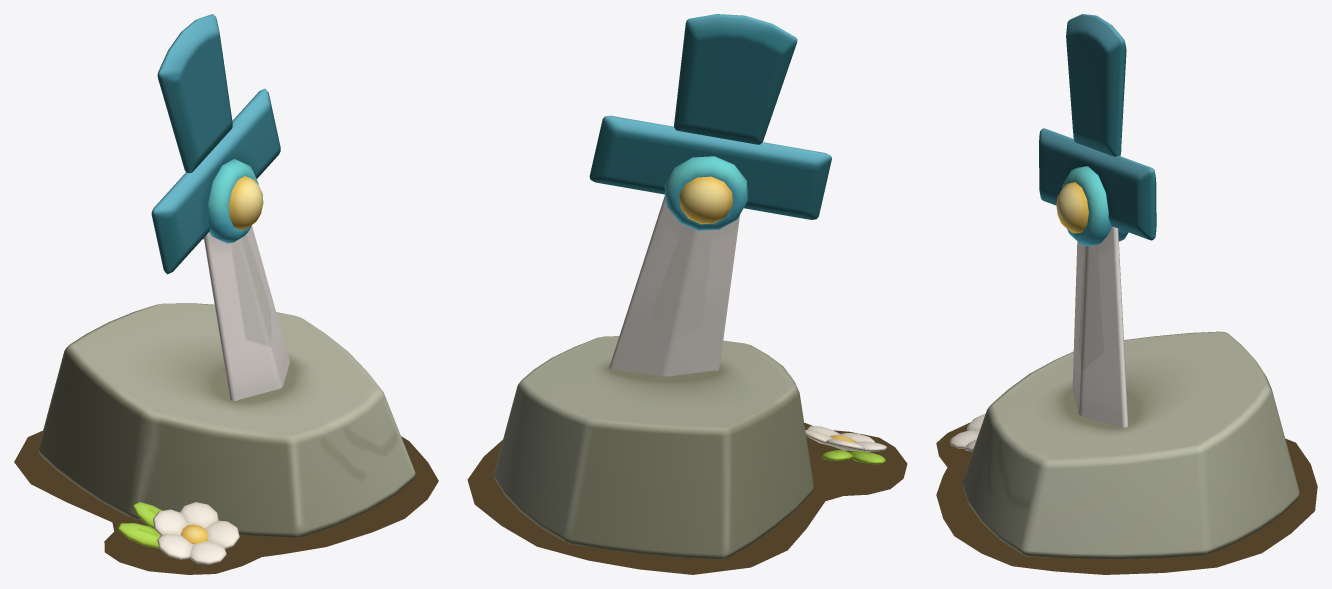
Rendered from KnifeRock.fbx.
3 renders of one model, left to right at view 1: azimuth 30°, elevation 25°; view 2: azimuth 150°, elevation 25°; view 3: azimuth 270°, elevation 25°, orthographic. The views are drawn at different scales.
Parts seen in each view (by area): view 1: polySurface1, polySurface5, polySurface2, polySurface15; view 2: polySurface1, polySurface5, polySurface2, polySurface15; view 3: polySurface1, polySurface5, polySurface2, polySurface15.
Boxes of the visible parts, x1=… form: polySurface1: x1=38, y1=303, x2=415, y2=538; polySurface5: x1=151, y1=14, x2=289, y2=400; polySurface2: x1=14, y1=430, x2=438, y2=574; polySurface15: x1=117, y1=502, x2=239, y2=564; polySurface1: x1=494, y1=336, x2=813, y2=559; polySurface5: x1=589, y1=14, x2=831, y2=376; polySurface2: x1=467, y1=422, x2=907, y2=574; polySurface15: x1=805, y1=425, x2=887, y2=464; polySurface1: x1=962, y1=331, x2=1299, y2=559; polySurface5: x1=1039, y1=14, x2=1156, y2=427; polySurface2: x1=936, y1=422, x2=1317, y2=574; polySurface15: x1=950, y1=413, x2=985, y2=451.
Size of the model in its own units: 208 by 273 by 209.
